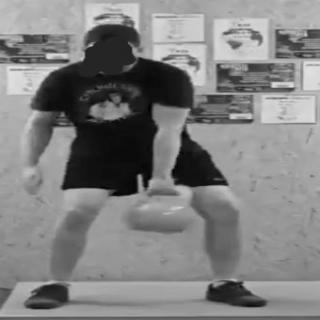kettlebell: (124, 180, 199, 237)
